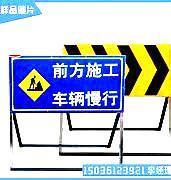sign: (9, 55, 122, 111)
